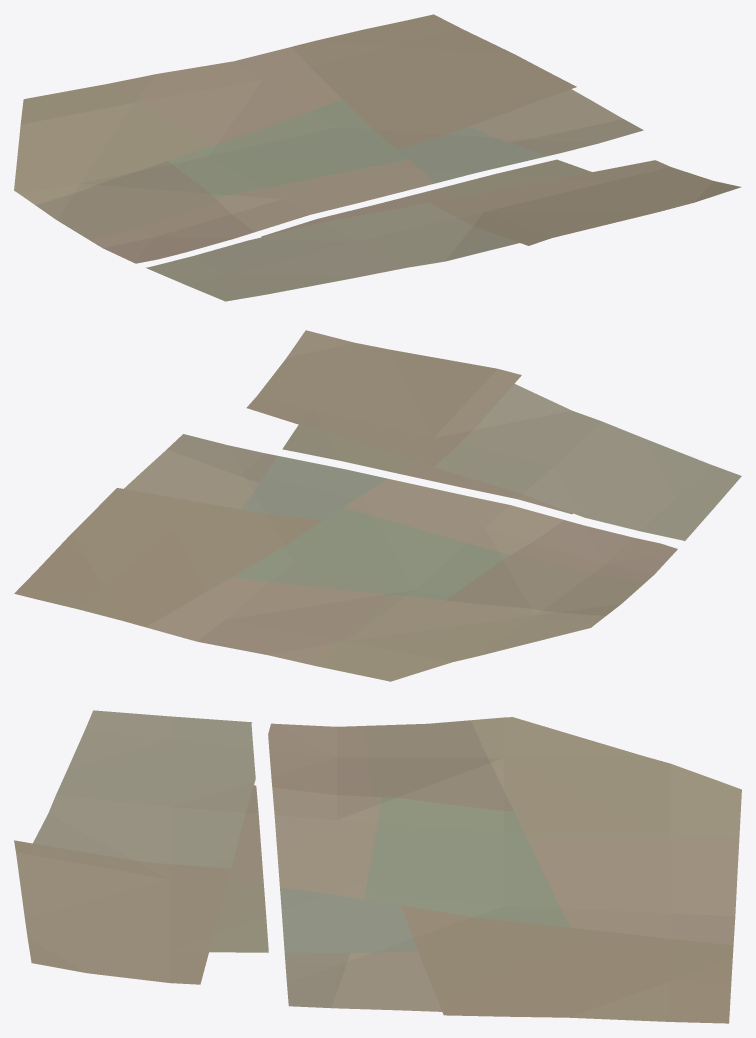
The model's file is farm_0_2_soil.glb.
3 renders of one model, top to bottom at view 1: azimuth 30°, elevation 25°; view 2: azimuth 150°, elevation 25°; view 3: azimuth 270°, elevation 25°, orthographic. The views are drawn at different scales.
Parts seen in each view (by area): view 1: geometry_0; view 2: geometry_0; view 3: geometry_0.
Part boxes in pixels (x1,y1,x2,y2): geometry_0: (14,14,741,301); geometry_0: (14,330,741,681); geometry_0: (14,710,741,1023).
Bounding box in the file's own units: 333 × 33.58 × 349.
